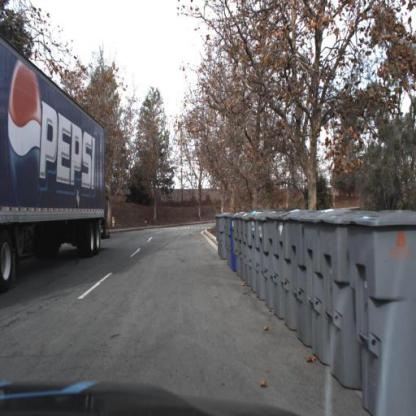truck: (1, 38, 108, 287)
